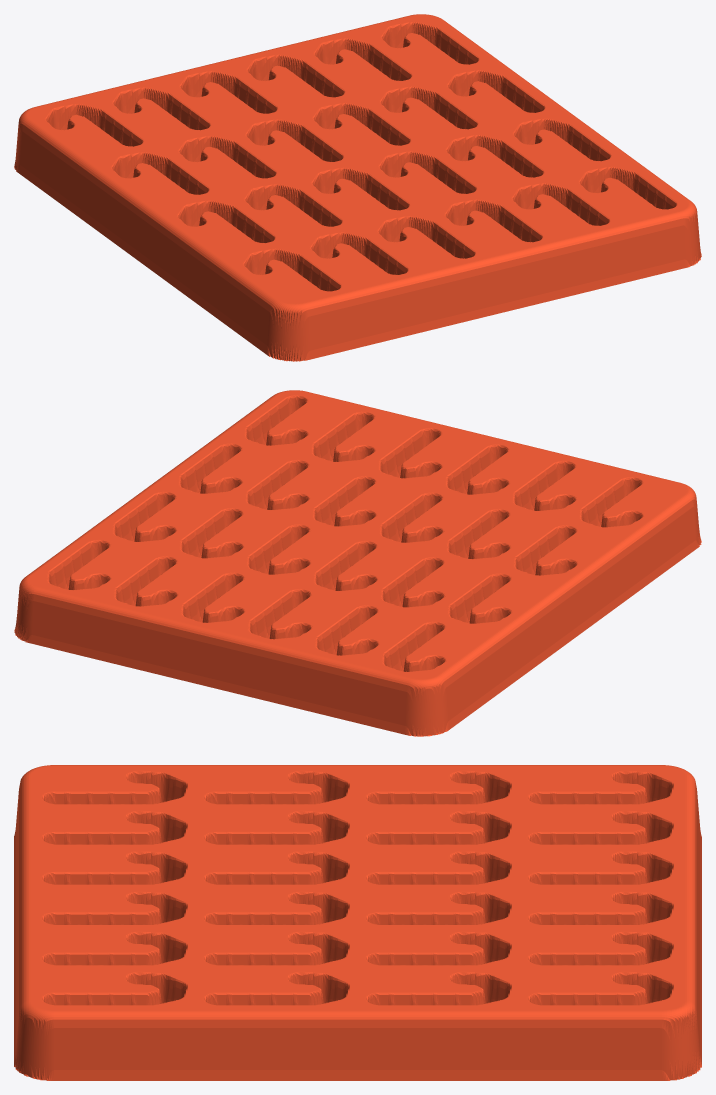
The model's file is mold.glb.
The picture shows the model from 3 angles, top to bottom: view 1: azimuth 30°, elevation 25°; view 2: azimuth 150°, elevation 25°; view 3: azimuth 270°, elevation 25°; orthographic projection. The views are drawn at different scales.
Visible parts, largest first — view 1: geometry_0; view 2: geometry_0; view 3: geometry_0.
Part boxes in pixels (x1,y1,x2,y2): geometry_0: (14, 14, 701, 361); geometry_0: (14, 390, 701, 736); geometry_0: (14, 765, 701, 1080).
Size of the model in its own units: 0.1387 by 0.0159 by 0.1561.
